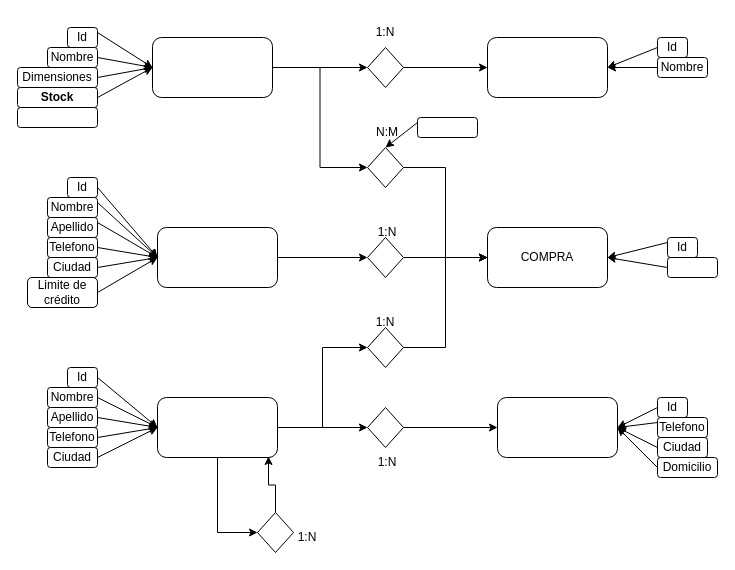
Image size: 735x570. Some labels were removed from this diagram. The centre of each missing label's shape, as x and y in pixels:
"Cantidad" goes at (447,127).
"CLIENTE" goes at (217,257).
"EMPLEADO" goes at (217,427).
"Estado" goes at (692,267).
"GAMA" goes at (547,67).
"OFICINA" goes at (557,427).
"Precio" goes at (57,117).
"PRODUCTO" goes at (212,67).
